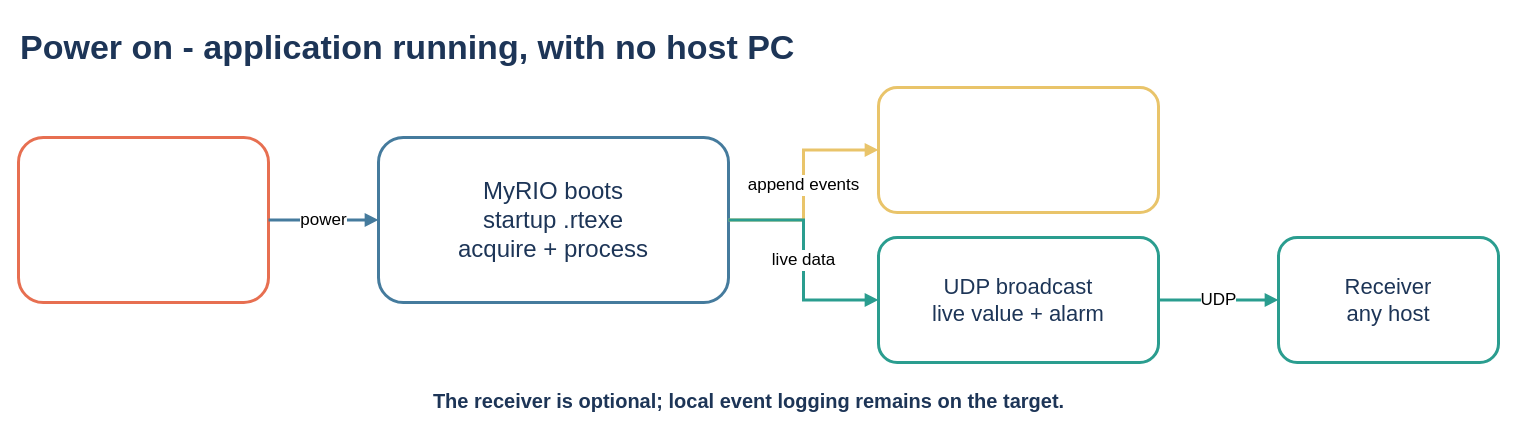
This 1517x434 diagram has some shape labels left out. Each missing label, with the centre of its shape:
Logbook selected events on target: pixel 1018 150
Power cycle: pixel 143 220
